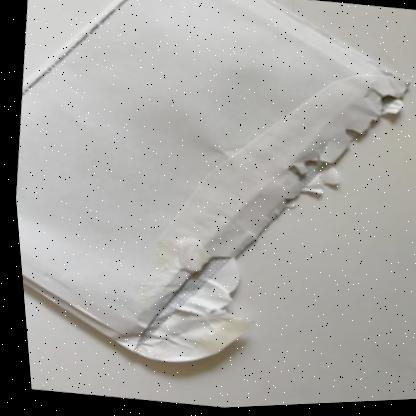Paper: (12, 0, 406, 363)
